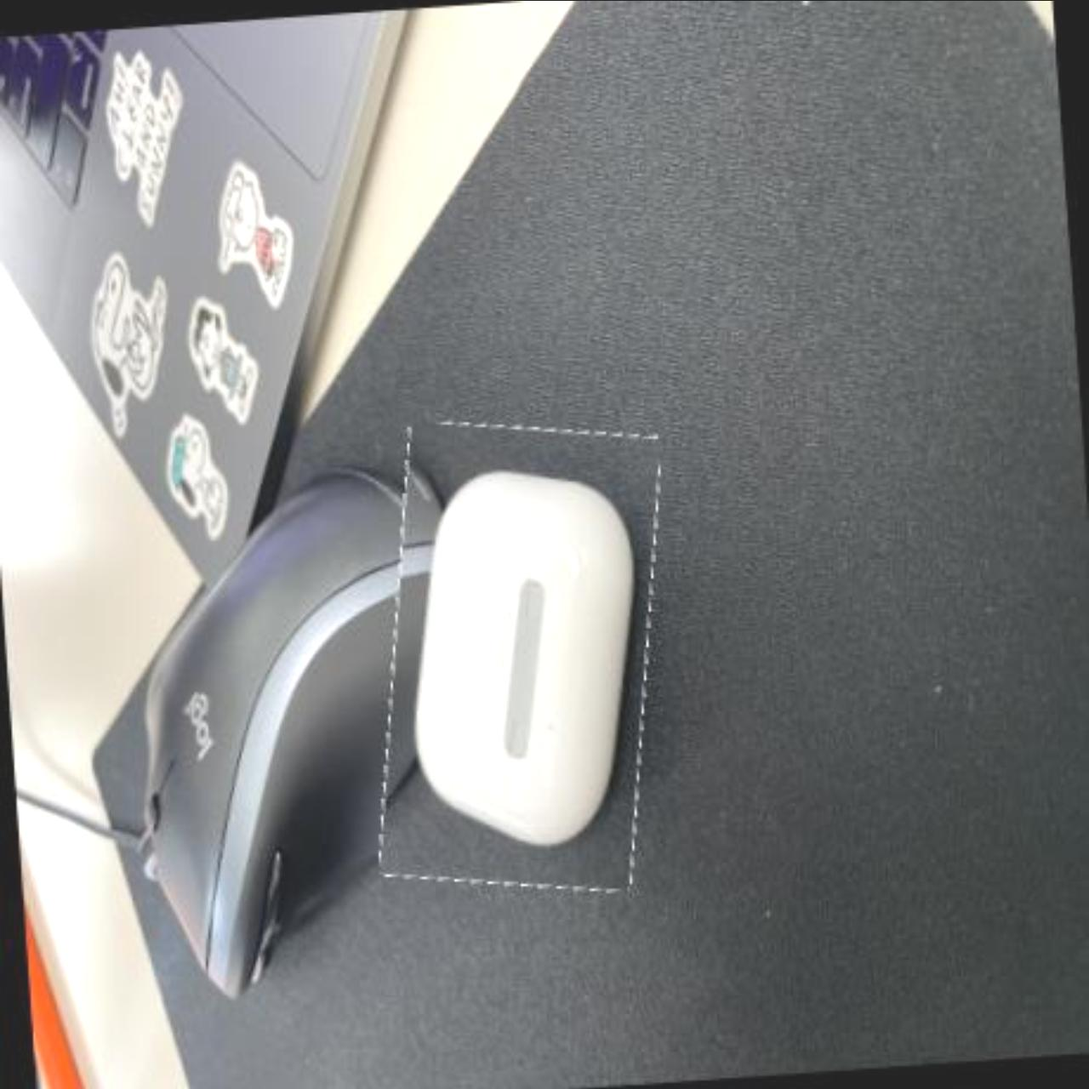AirPods: (365, 413, 677, 898)
